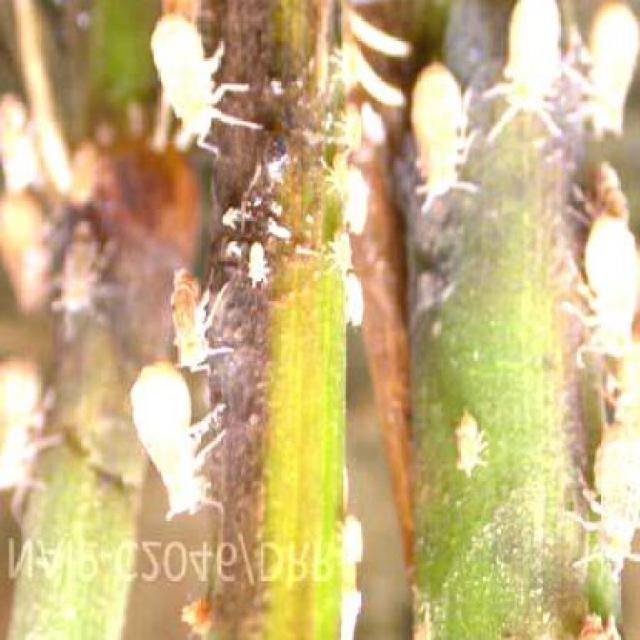brown-planthopper: (126, 360, 214, 518), (144, 9, 228, 148), (408, 59, 470, 208), (577, 206, 637, 354), (502, 0, 560, 134), (163, 266, 220, 374), (54, 231, 104, 323), (449, 408, 486, 482), (329, 35, 362, 91), (320, 144, 351, 198), (338, 510, 364, 564), (334, 101, 361, 152), (325, 224, 352, 274), (342, 282, 368, 328), (245, 242, 268, 286)
